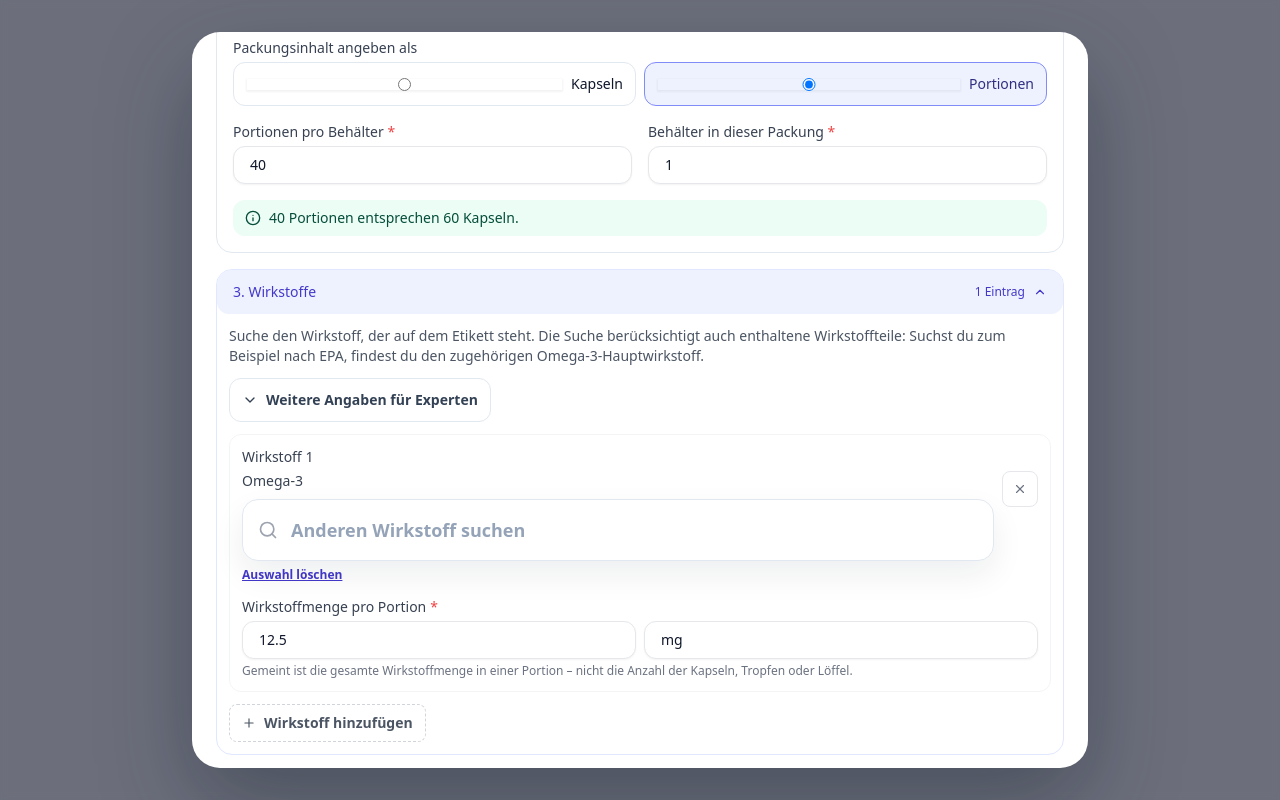
Scenario: UserProductForm sub-ingredient roundtrip › hydratisiert Dezimalwerte mit Punkt in Zahlenfeldern
(page scrolled)
Expected: the number field named "Wirkstoffmenge Omega-3" holds "12.5", [242, 621, 636, 659]
Click the button "Weitere Angaben für Experten" at point(360, 400), box [229, 378, 491, 422]
(page scrolled)
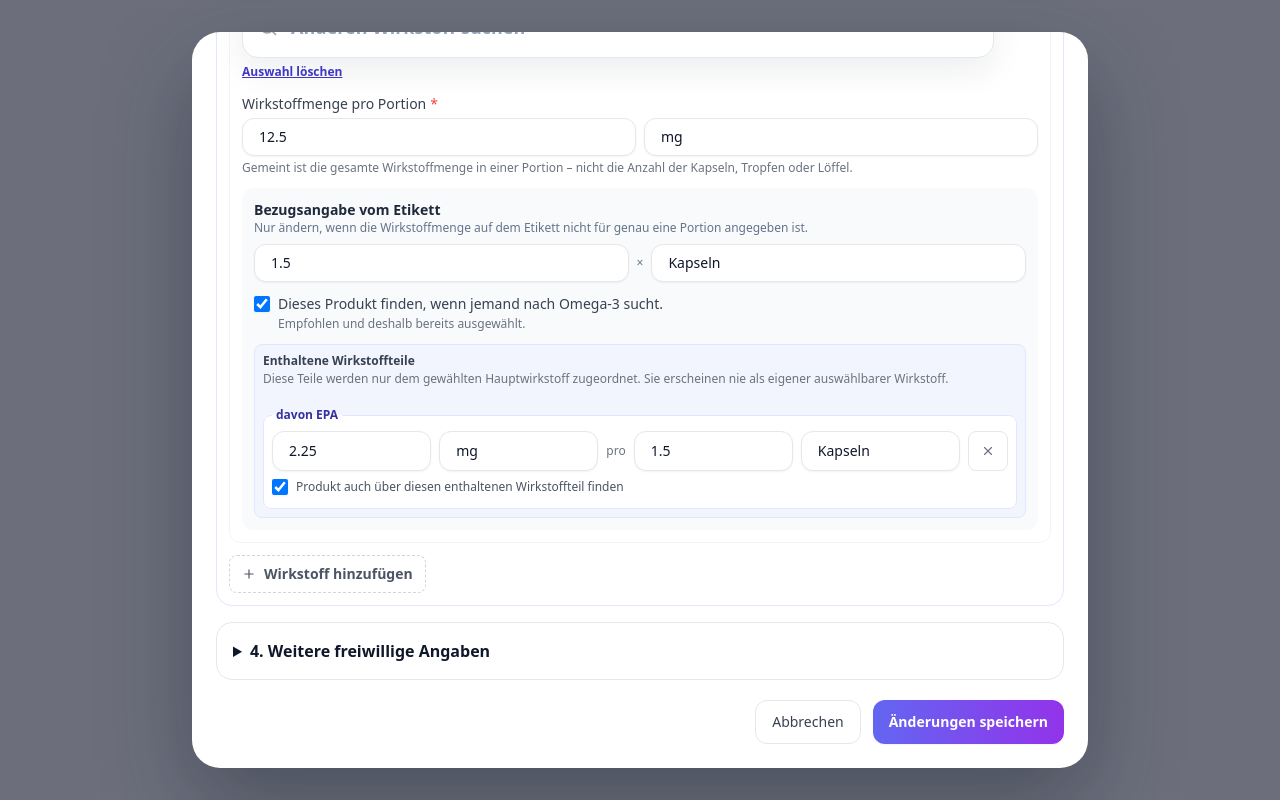
Result: the number field named "Bezugsmenge Omega-3" holds "1.5" at [254, 244, 629, 282]
Result: the number field named "Menge EPA" holds "2.25" at [272, 431, 431, 471]
Result: the number field named "Bezugsgröße EPA" holds "1.5" at [634, 431, 793, 471]
